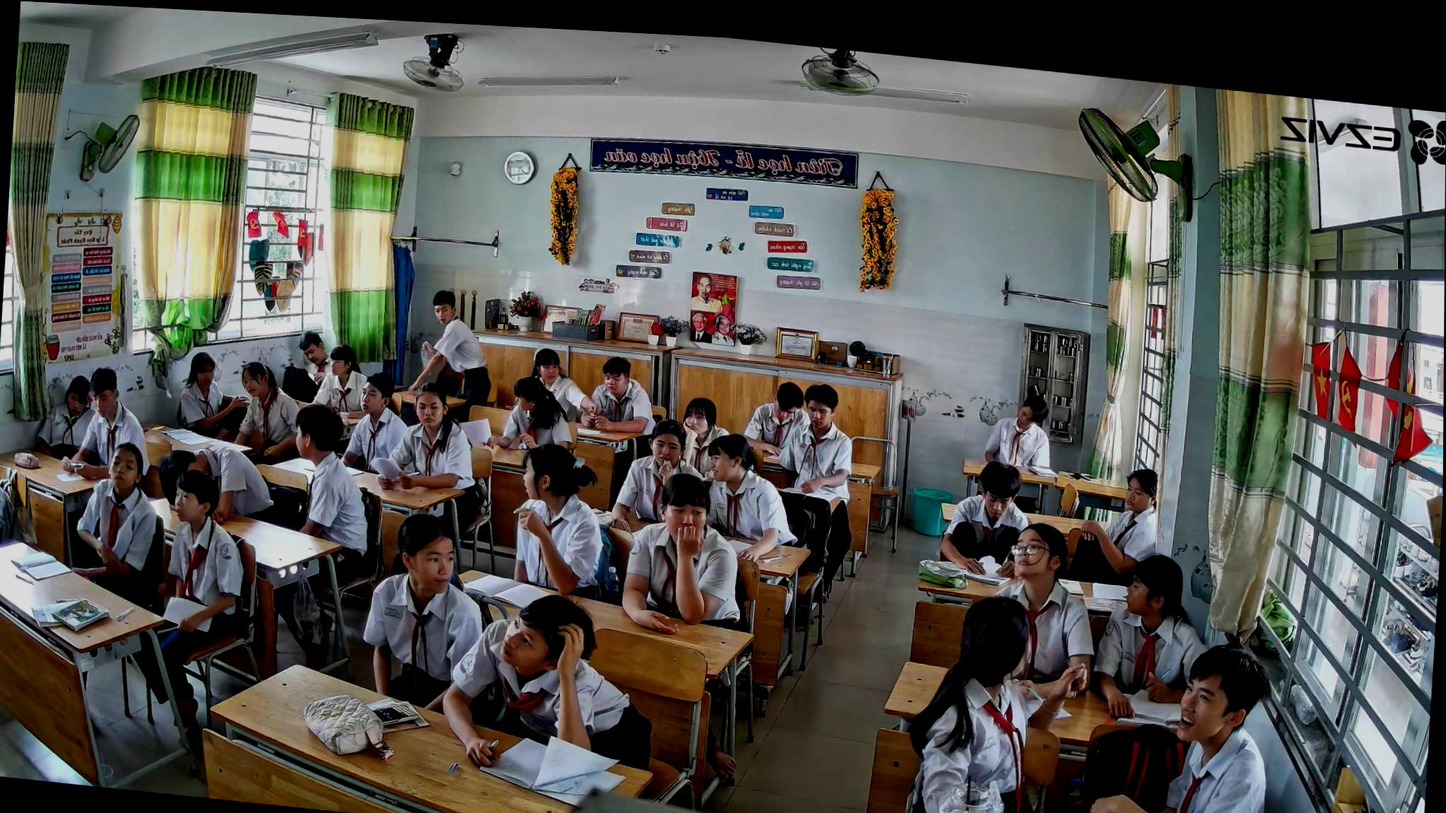person: (435, 572, 656, 785), (894, 585, 1090, 813), (1083, 623, 1293, 813), (355, 501, 493, 721), (970, 512, 1102, 704), (618, 464, 747, 641), (1088, 546, 1210, 730), (143, 464, 262, 645), (505, 436, 617, 598), (933, 450, 1044, 589), (374, 373, 489, 505), (692, 428, 805, 562), (281, 396, 381, 547), (64, 434, 160, 581), (58, 355, 156, 493), (609, 414, 711, 539), (400, 280, 499, 403), (155, 428, 274, 527), (1076, 450, 1164, 579), (772, 374, 860, 498), (232, 352, 317, 459), (485, 368, 580, 462), (978, 383, 1061, 473), (587, 350, 665, 443), (171, 343, 246, 437), (341, 368, 408, 473), (664, 391, 736, 477), (741, 373, 813, 456), (33, 366, 91, 464), (520, 341, 588, 420), (311, 340, 375, 420), (283, 323, 343, 402)
